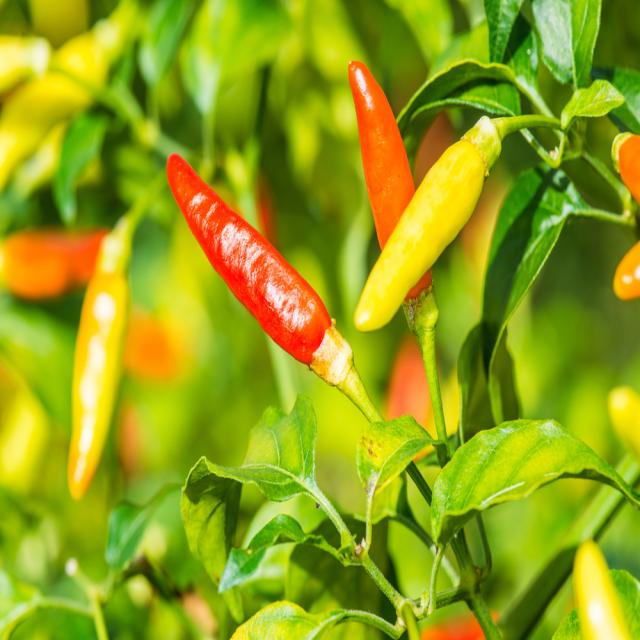Ripe: (166, 154, 331, 363), (349, 62, 415, 249)
Unripe: (354, 139, 485, 332)
